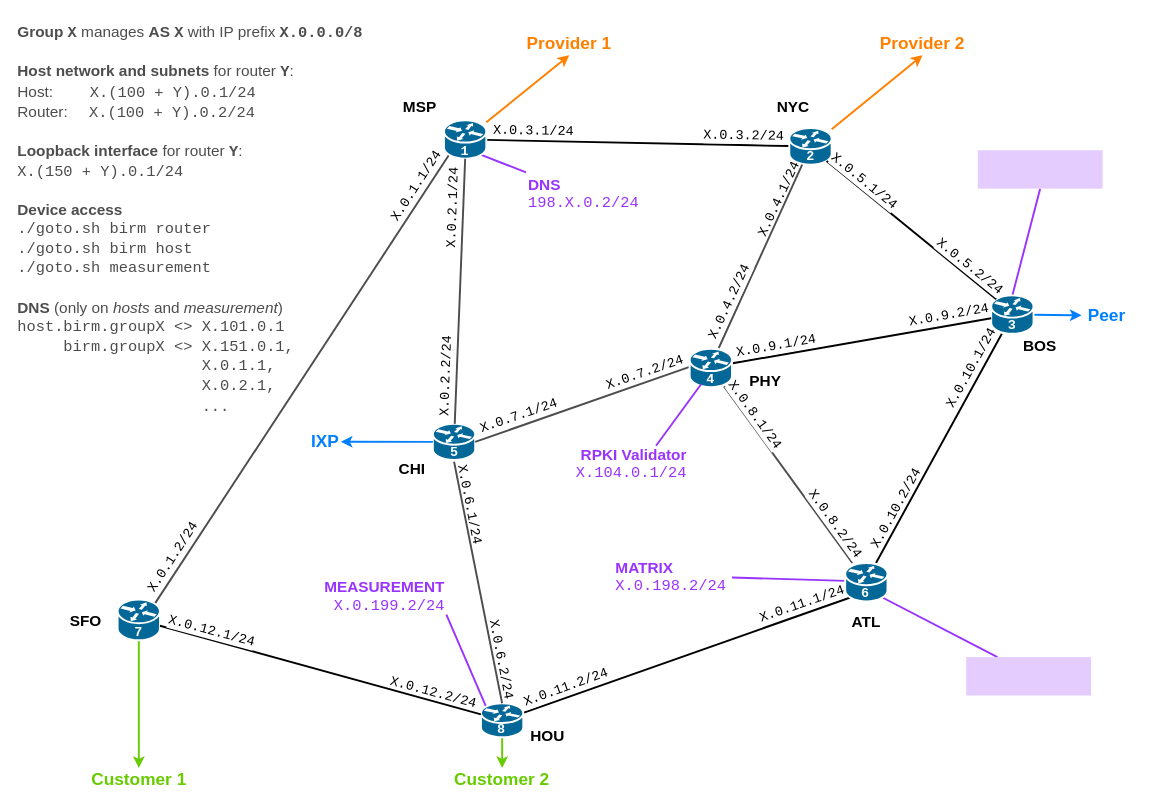
This 1149x808 diagram has some shape labels left out. Here are the shapes that lost their labels. From the top down, the box of each, then its label:
(977, 150, 1102, 188): DC North (DCN)
(966, 657, 1091, 695): DC South (DCS)
